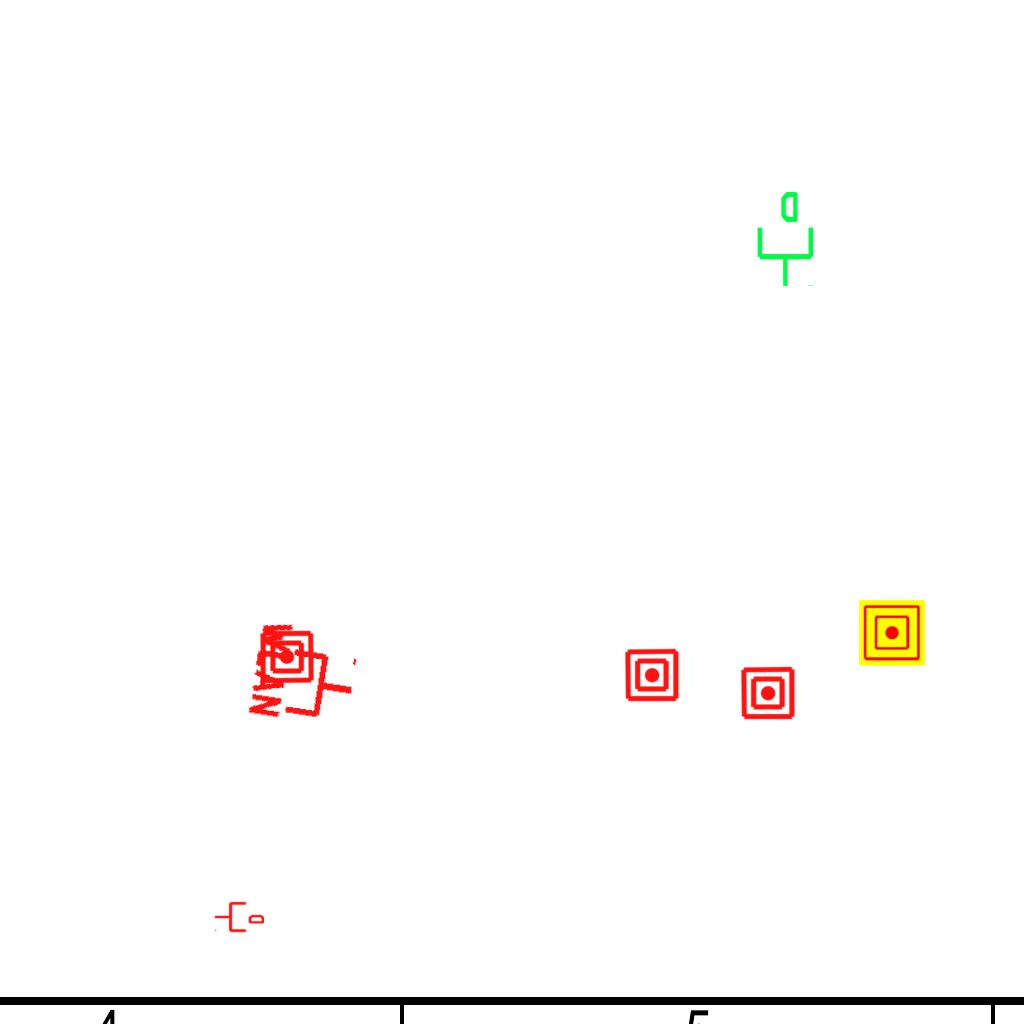Datenanschluss_einfach: (749, 189, 818, 289), (214, 900, 264, 934)
NAM-Nichtautomatischer_Melder: (859, 600, 925, 666), (740, 665, 796, 721), (624, 647, 680, 703), (259, 629, 315, 685)
WLAN: (245, 614, 366, 734)
